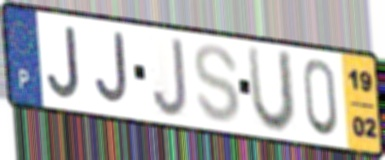0: (301, 57, 340, 139)
J: (150, 36, 190, 120), (93, 30, 131, 109), (45, 24, 83, 101)
S: (191, 42, 242, 126)
U: (244, 43, 297, 137)
